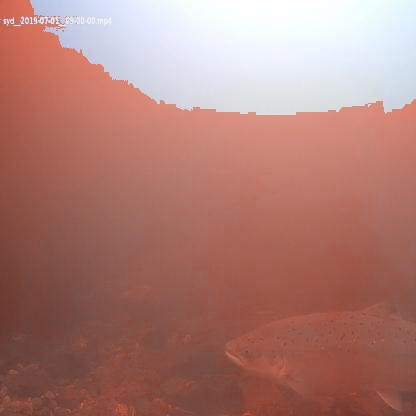salmon: (222, 296, 416, 412)
